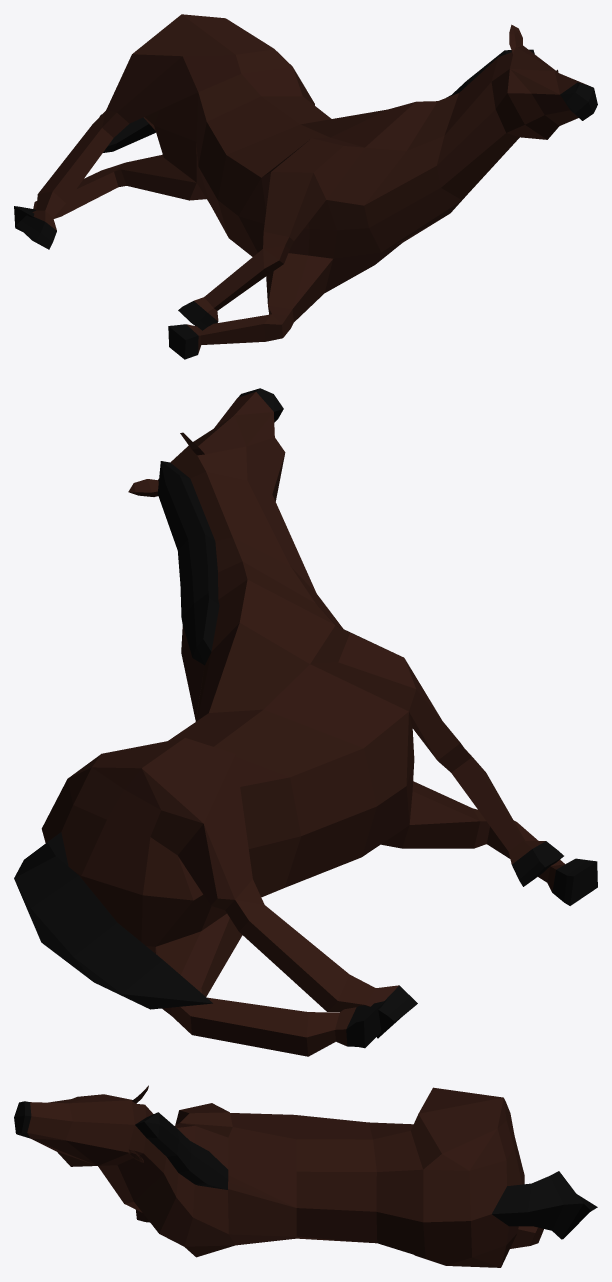
File: Horse_000013.obj
The picture shows the model from 3 angles, top to bottom: view 1: azimuth 30°, elevation 25°; view 2: azimuth 150°, elevation 25°; view 3: azimuth 270°, elevation 25°; orthographic projection. The views are drawn at different scales.
Parts seen in each view (by area): view 1: Horse_Cylinder; view 2: Horse_Cylinder; view 3: Horse_Cylinder.
Boxes of the visible parts, x1,y1,x2,y2 form: Horse_Cylinder: [14, 14, 597, 359]; Horse_Cylinder: [14, 388, 597, 1056]; Horse_Cylinder: [14, 1085, 597, 1267].
Size of the model in its own units: 6.5 by 4.45 by 9.
